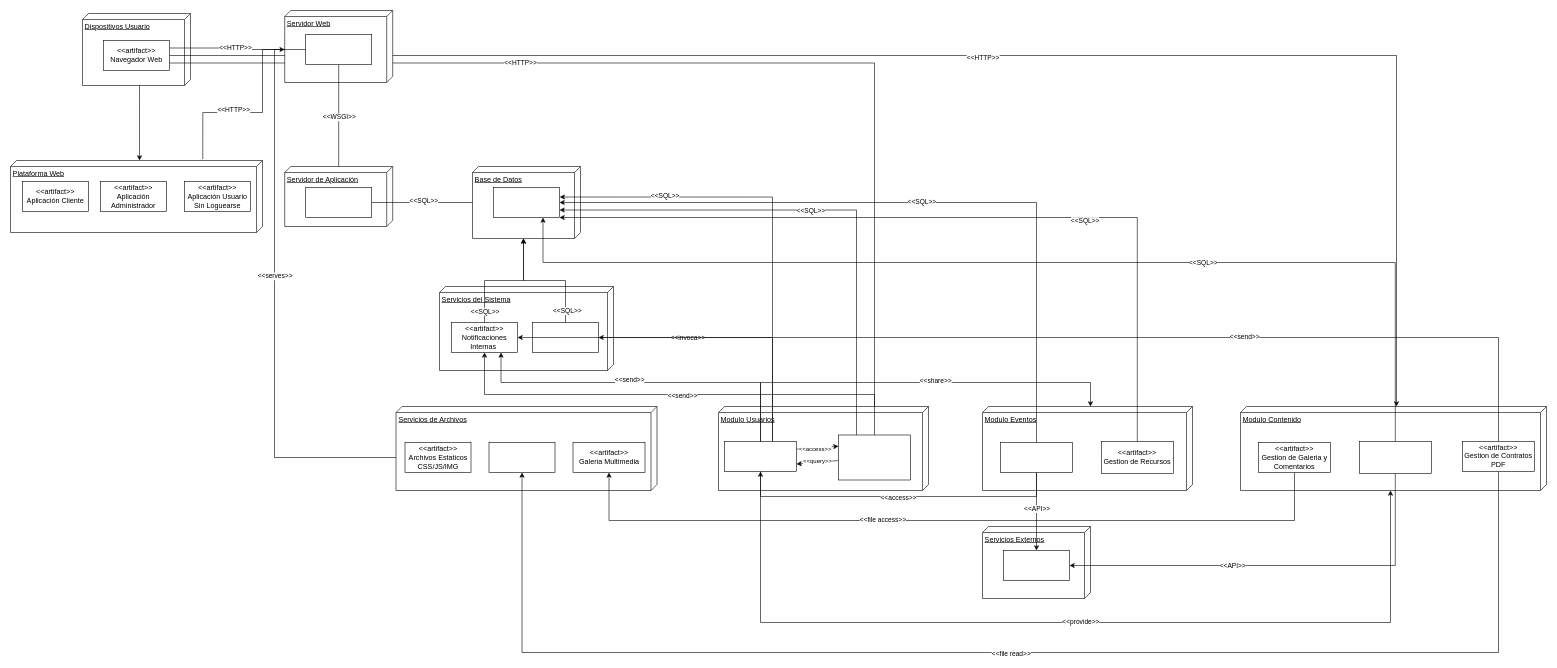
Some shapes in this 1557 by 668 pixel diagram are drawn without their labels. Each missing label, with the centre of its shape:
<<artifact>> API Google Calendar: point 1036,565
<<artifact>> Autenticaciòn Login/Logout/Control Permisos: point 874,457
<<artifact>> Contratos PDF: point 521,457
<<artifact>> Encuestas: point 565,337
<<artifact>> Gestion de Eventos: point 1036,457
<<artifact>> Gestion de Solicitudes: point 1395,457
<<artifact>> Gestion de Usuarios: point 760,456
<<artifact>> MySQL: point 526,202
<<artifact>> Python: point 338,202
<<artifact>> Servidor HTTP: point 338,49
